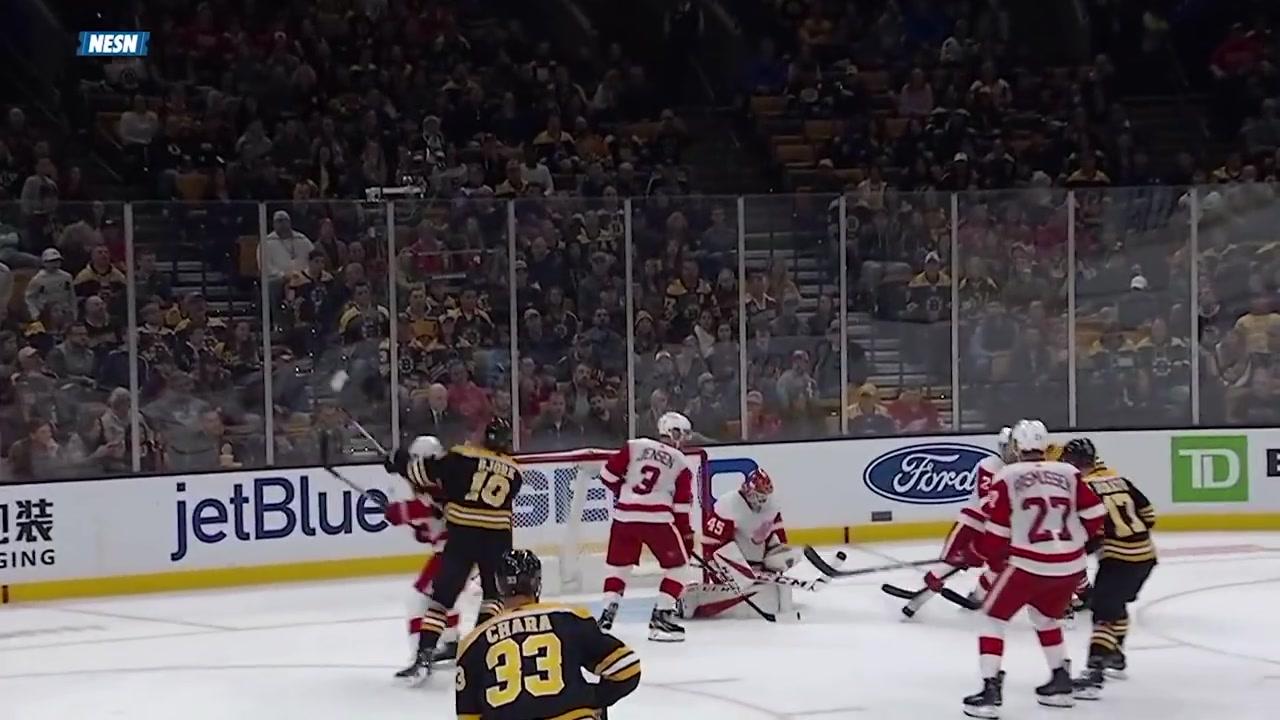Geico: (509, 458, 624, 536)
